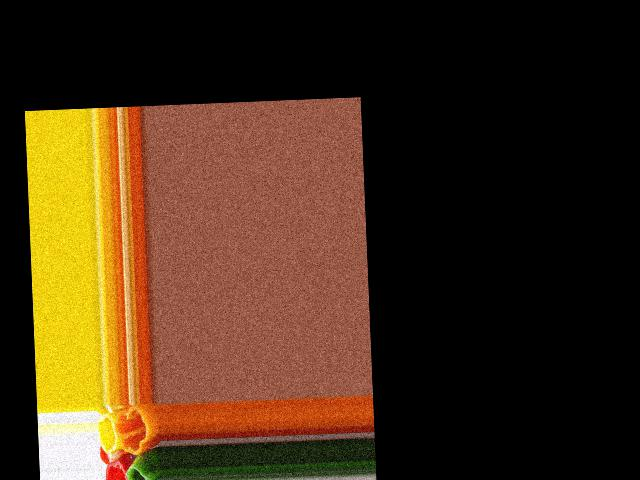bell_pepper: (103, 459, 131, 480)
